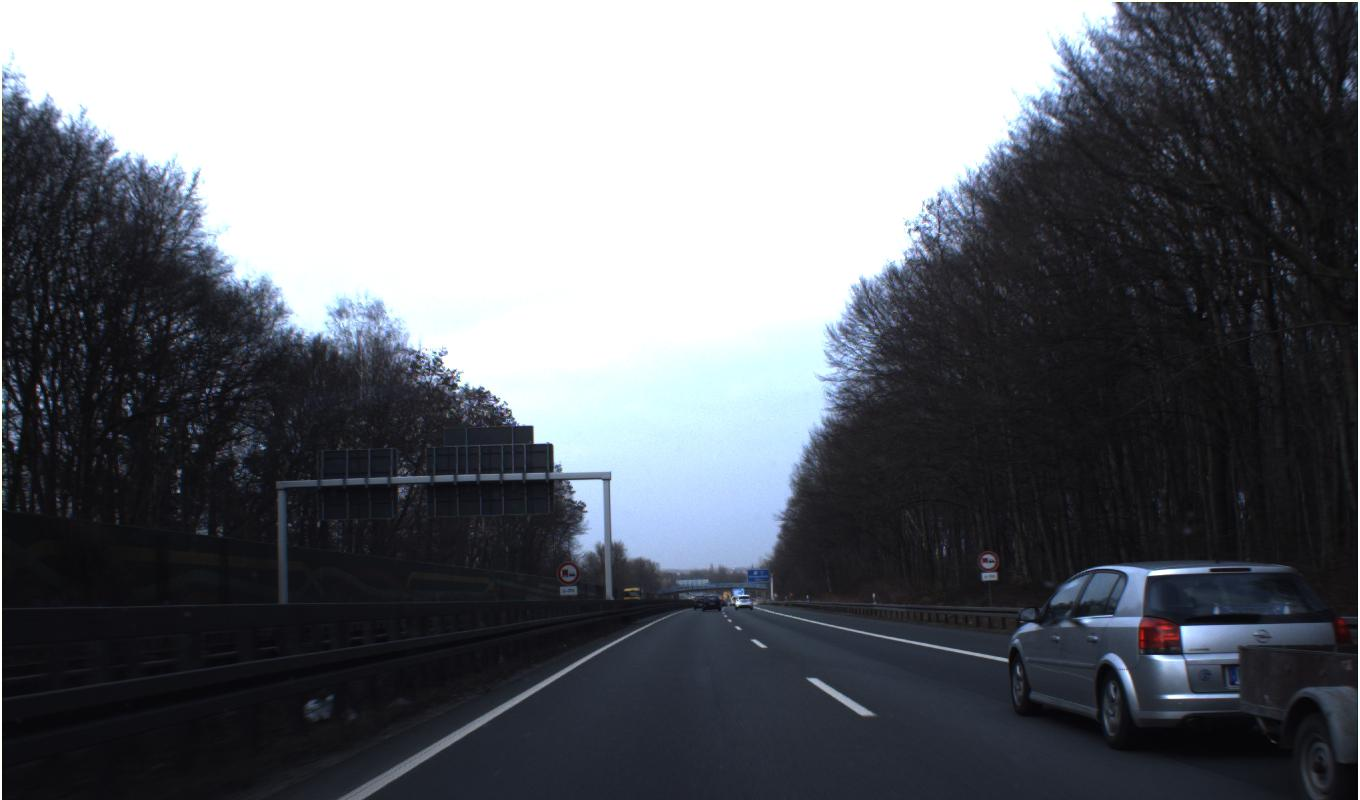prohibitory: (555, 561, 580, 586), (977, 550, 1000, 573)
